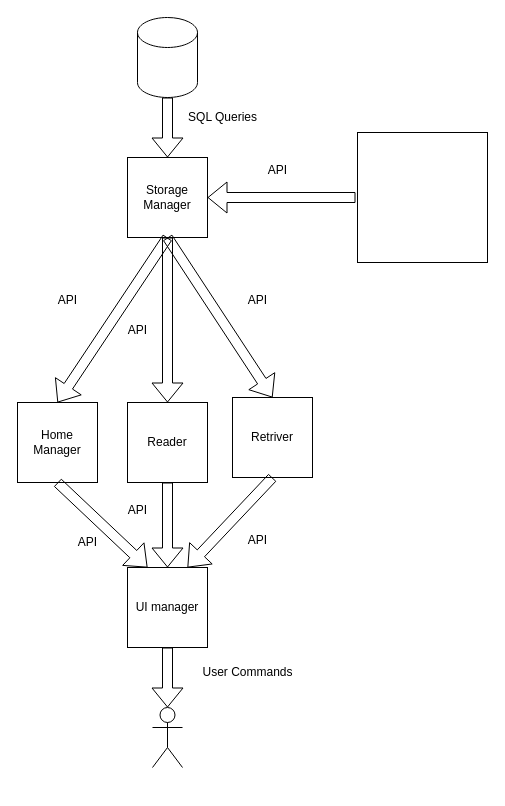
The diagram is 505 pixels wide and 806 high, and some of its shapes have lost their labels. The centre of each missing label's shape, as x and y in pixels:
Actor: (x=167, y=737)
Encryption/Decryption Manager: (x=422, y=197)
SQLite: (x=167, y=57)
